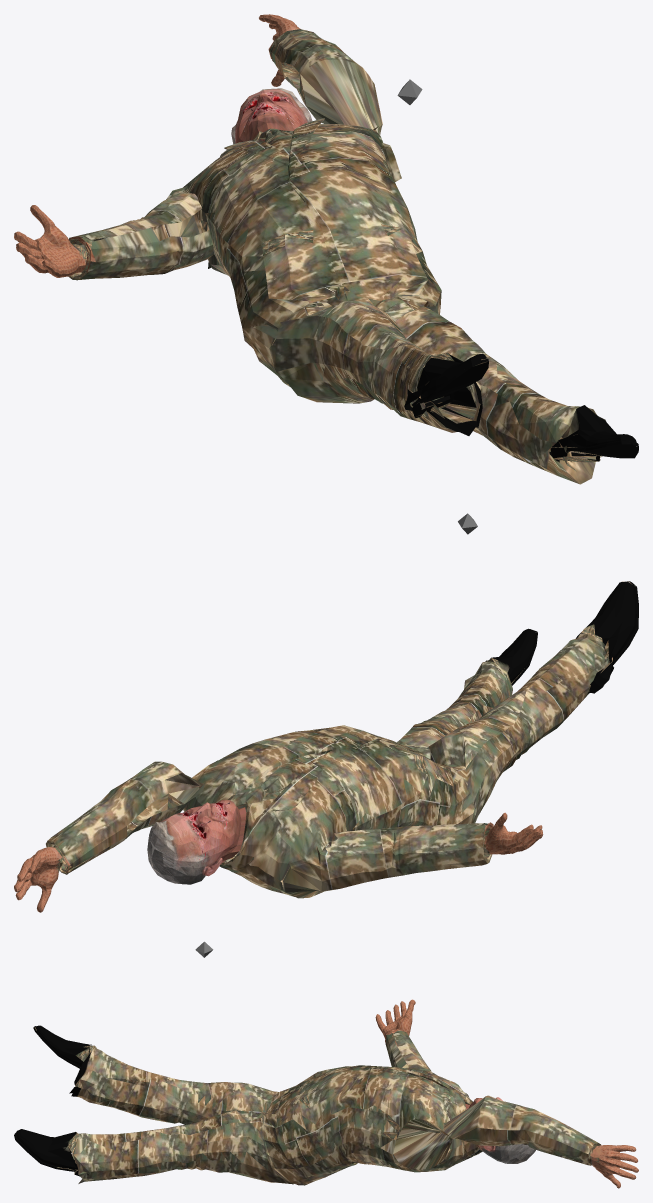
Rendered from zombie_000076.obj.
3 renders of one model, top to bottom at view 1: azimuth 30°, elevation 25°; view 2: azimuth 150°, elevation 25°; view 3: azimuth 270°, elevation 25°, orthographic. The views are drawn at different scales.
Visible parts, largest first — view 1: Suit_coat_orig_9___De, objGeo_Hea_orig_9___D; view 2: Suit_coat_orig_9___De, objGeo_Hea_orig_9___D; view 3: Suit_coat_orig_9___De, objGeo_Hea_orig_9___D.
Part boxes in pixels (bbox=[...]): Suit_coat_orig_9___De: bbox=[14, 14, 638, 484]; objGeo_Hea_orig_9___D: bbox=[231, 88, 312, 153]; Suit_coat_orig_9___De: bbox=[14, 581, 638, 912]; objGeo_Hea_orig_9___D: bbox=[147, 800, 246, 884]; Suit_coat_orig_9___De: bbox=[14, 999, 638, 1188]; objGeo_Hea_orig_9___D: bbox=[465, 1097, 535, 1163].
Size of the model in its own units: 1.3 by 0.9905 by 2.43.
